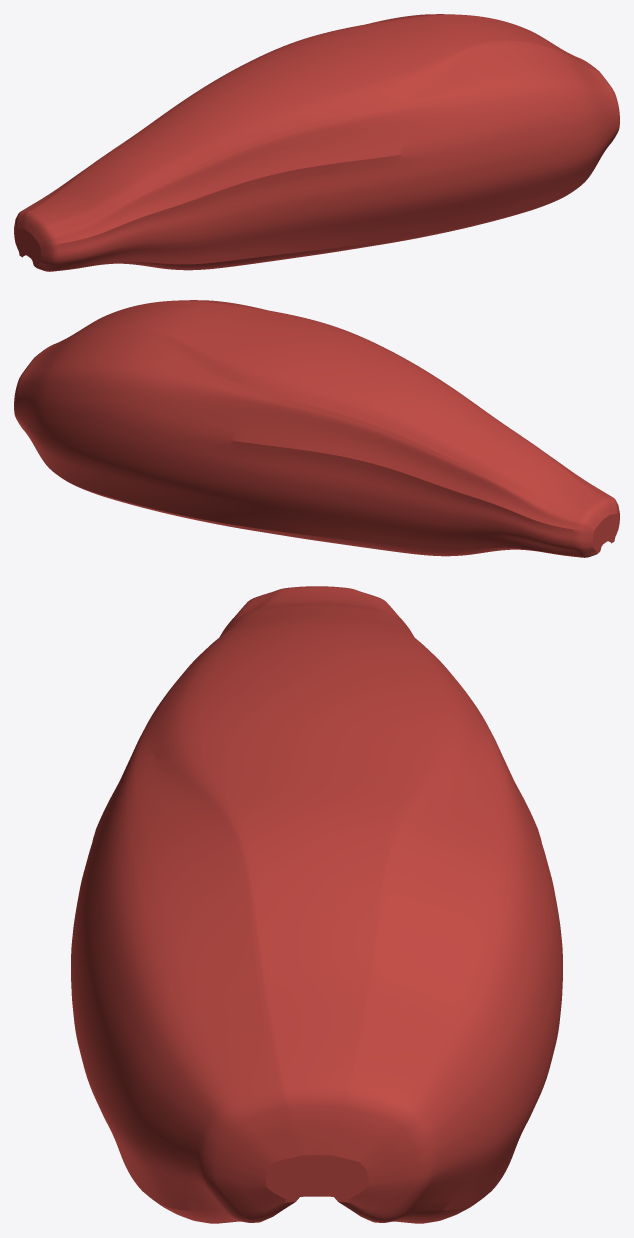
Rendered from cruiser_3.glb.
3 renders of one model, top to bottom at view 1: azimuth 30°, elevation 25°; view 2: azimuth 150°, elevation 25°; view 3: azimuth 270°, elevation 25°, orthographic. The views are drawn at different scales.
Parts seen in each view (by area): view 1: cruiser_3; view 2: cruiser_3; view 3: cruiser_3.
Part boxes in pixels (box(x1,y1,x2,y2)): cruiser_3: box(14, 14, 619, 271); cruiser_3: box(14, 300, 619, 557); cruiser_3: box(71, 586, 562, 1223).
Size of the model in its own units: 1.06 by 0.2947 by 0.3973.
